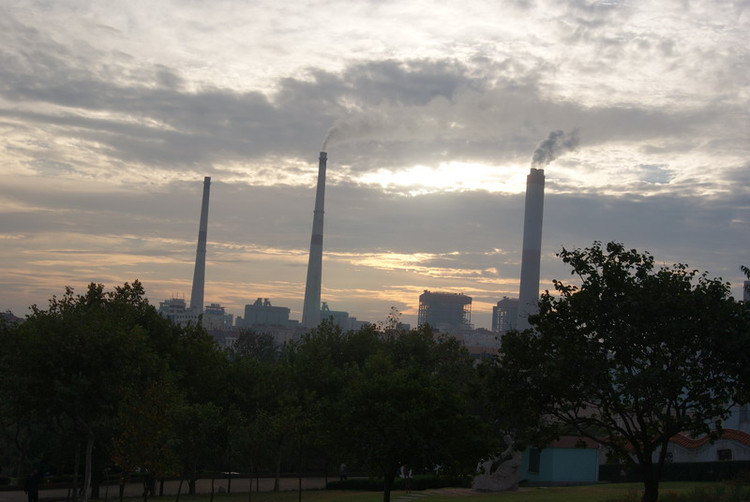dust: (308, 100, 418, 168), (523, 117, 589, 186)
